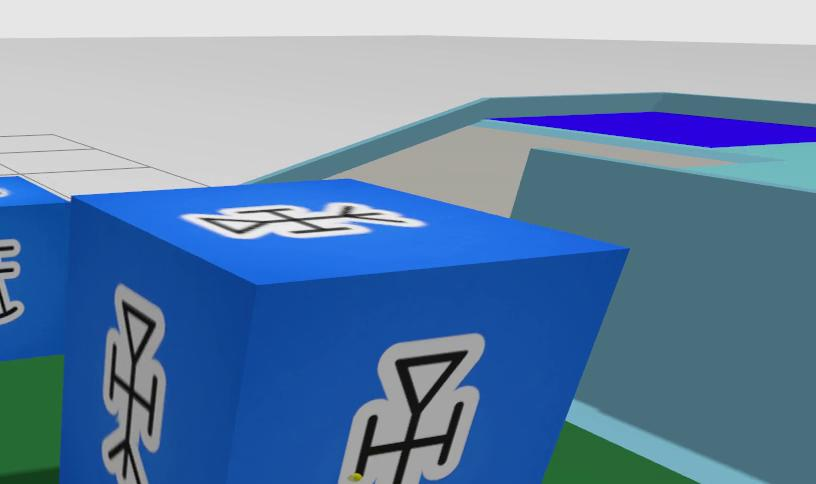KFS_REAL: (60, 180, 626, 484), (337, 334, 483, 484), (101, 284, 165, 484), (0, 176, 68, 359), (182, 202, 425, 239), (0, 239, 24, 323), (0, 188, 8, 194)
